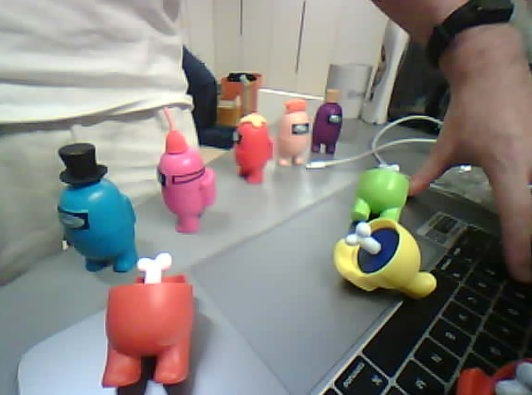alive: (55, 173, 141, 276), (154, 143, 219, 235), (232, 111, 275, 184), (276, 107, 313, 166), (308, 98, 344, 157)
